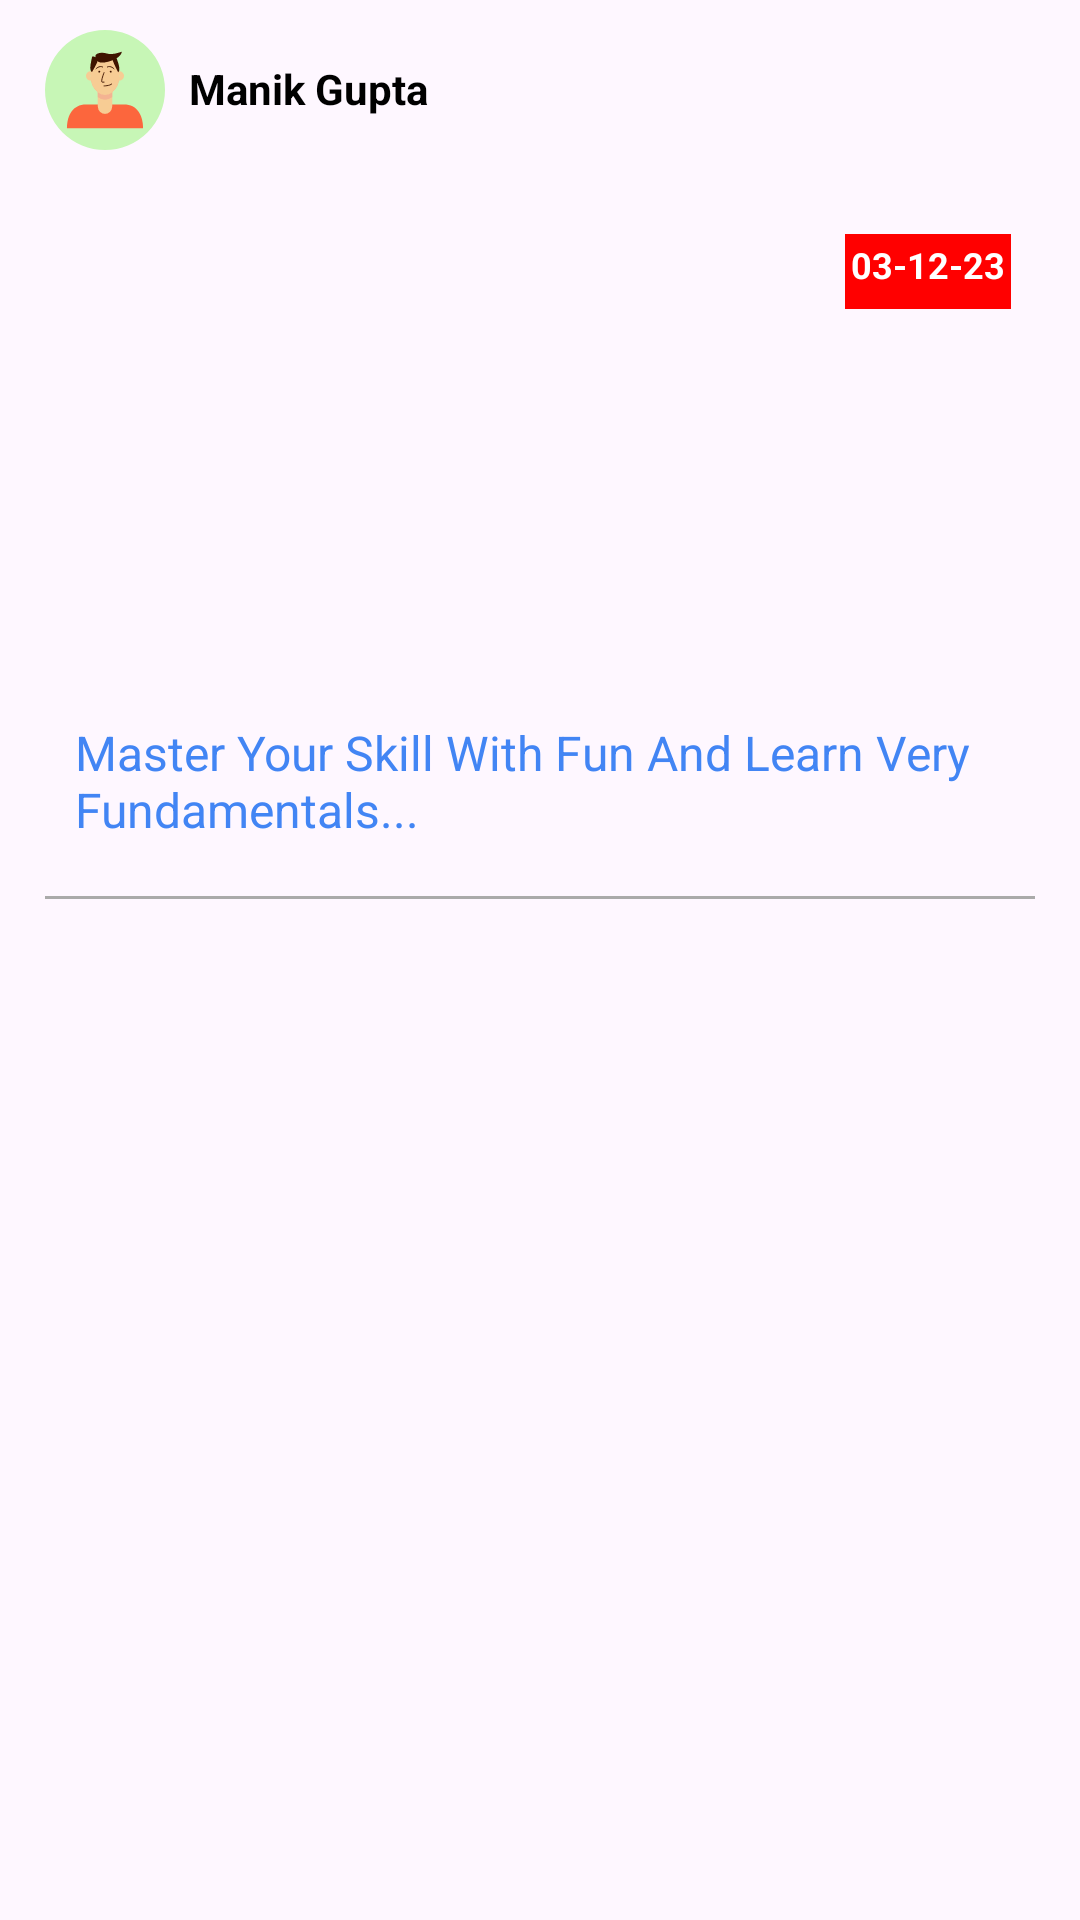

Where to tap for icons on this 1080*1920 app screen, as [x,y]:
user: [105,90]
